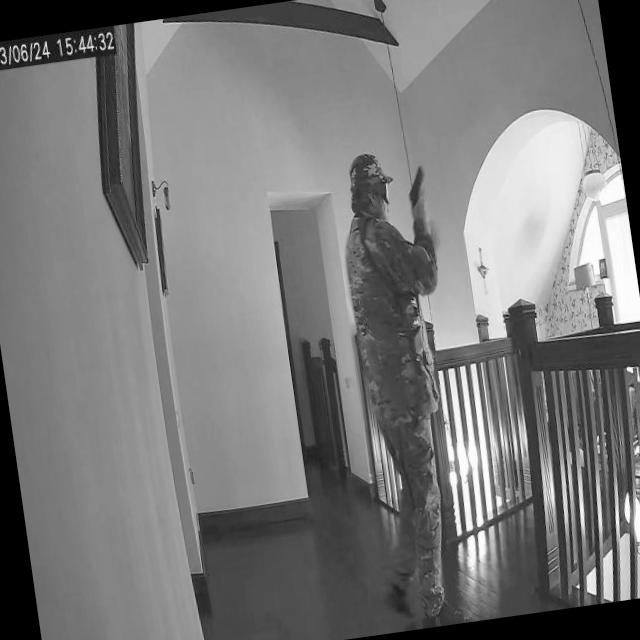gun: (404, 163, 430, 212)
person with a gun: (332, 146, 469, 628)
